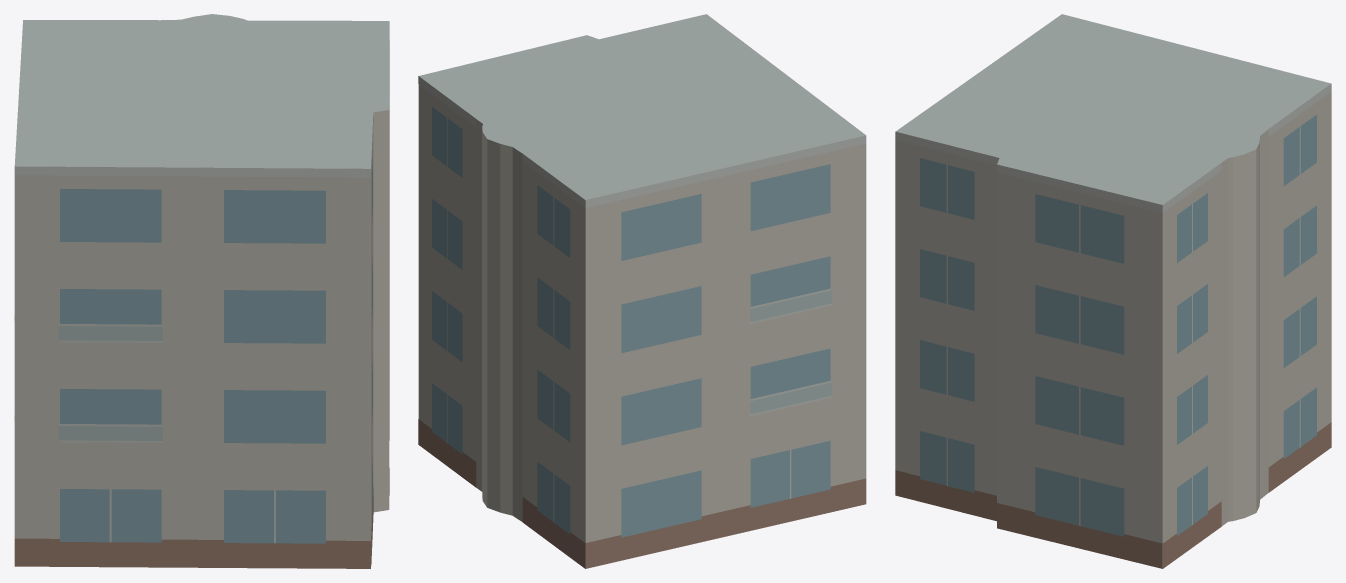
The model's file is survey-upis-32624310.glb.
3 views of the same model, side by side, from view 1: azimuth 30°, elevation 25°; view 2: azimuth 150°, elevation 25°; view 3: azimuth 270°, elevation 25° (orthographic). The views are drawn at different scales.
Visible parts, largest first — view 1: survey-upis-32624310.tmp; view 2: survey-upis-32624310.tmp; view 3: survey-upis-32624310.tmp.
Boxes of the visible parts, bbox=[...] form: survey-upis-32624310.tmp: bbox=[14, 14, 389, 568]; survey-upis-32624310.tmp: bbox=[418, 14, 866, 568]; survey-upis-32624310.tmp: bbox=[895, 14, 1331, 568].
Bounding box in the file's own units: 12.5 × 11.1 × 12.07.
